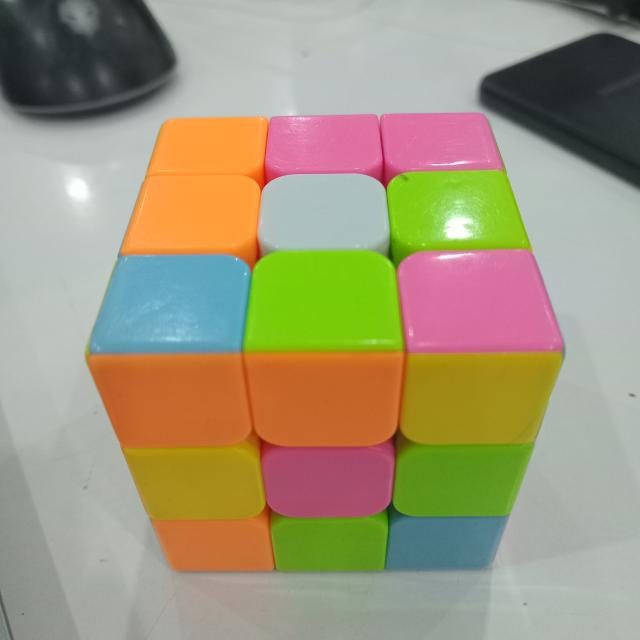right: (88, 353, 562, 571)
rubik: (82, 111, 569, 573)
up: (89, 112, 563, 353)
